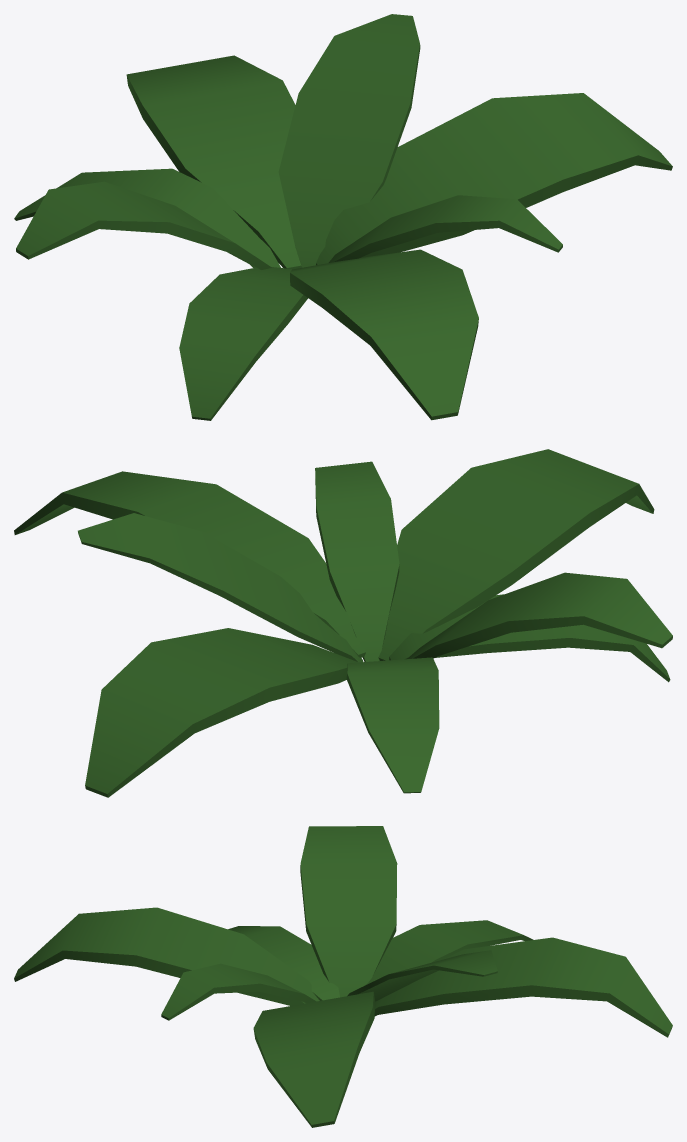
File: Plant_2.fbx
3 renders of one model, top to bottom at view 1: azimuth 30°, elevation 25°; view 2: azimuth 150°, elevation 25°; view 3: azimuth 270°, elevation 25°, orthographic. The views are drawn at different scales.
Visible parts, largest first — view 1: Plant_2; view 2: Plant_2; view 3: Plant_2.
Part boxes in pixels (bbox=[...]): Plant_2: bbox=[14, 14, 672, 420]; Plant_2: bbox=[14, 449, 672, 797]; Plant_2: bbox=[14, 826, 672, 1127].
Size of the model in its own units: 238 by 63.89 by 264.
